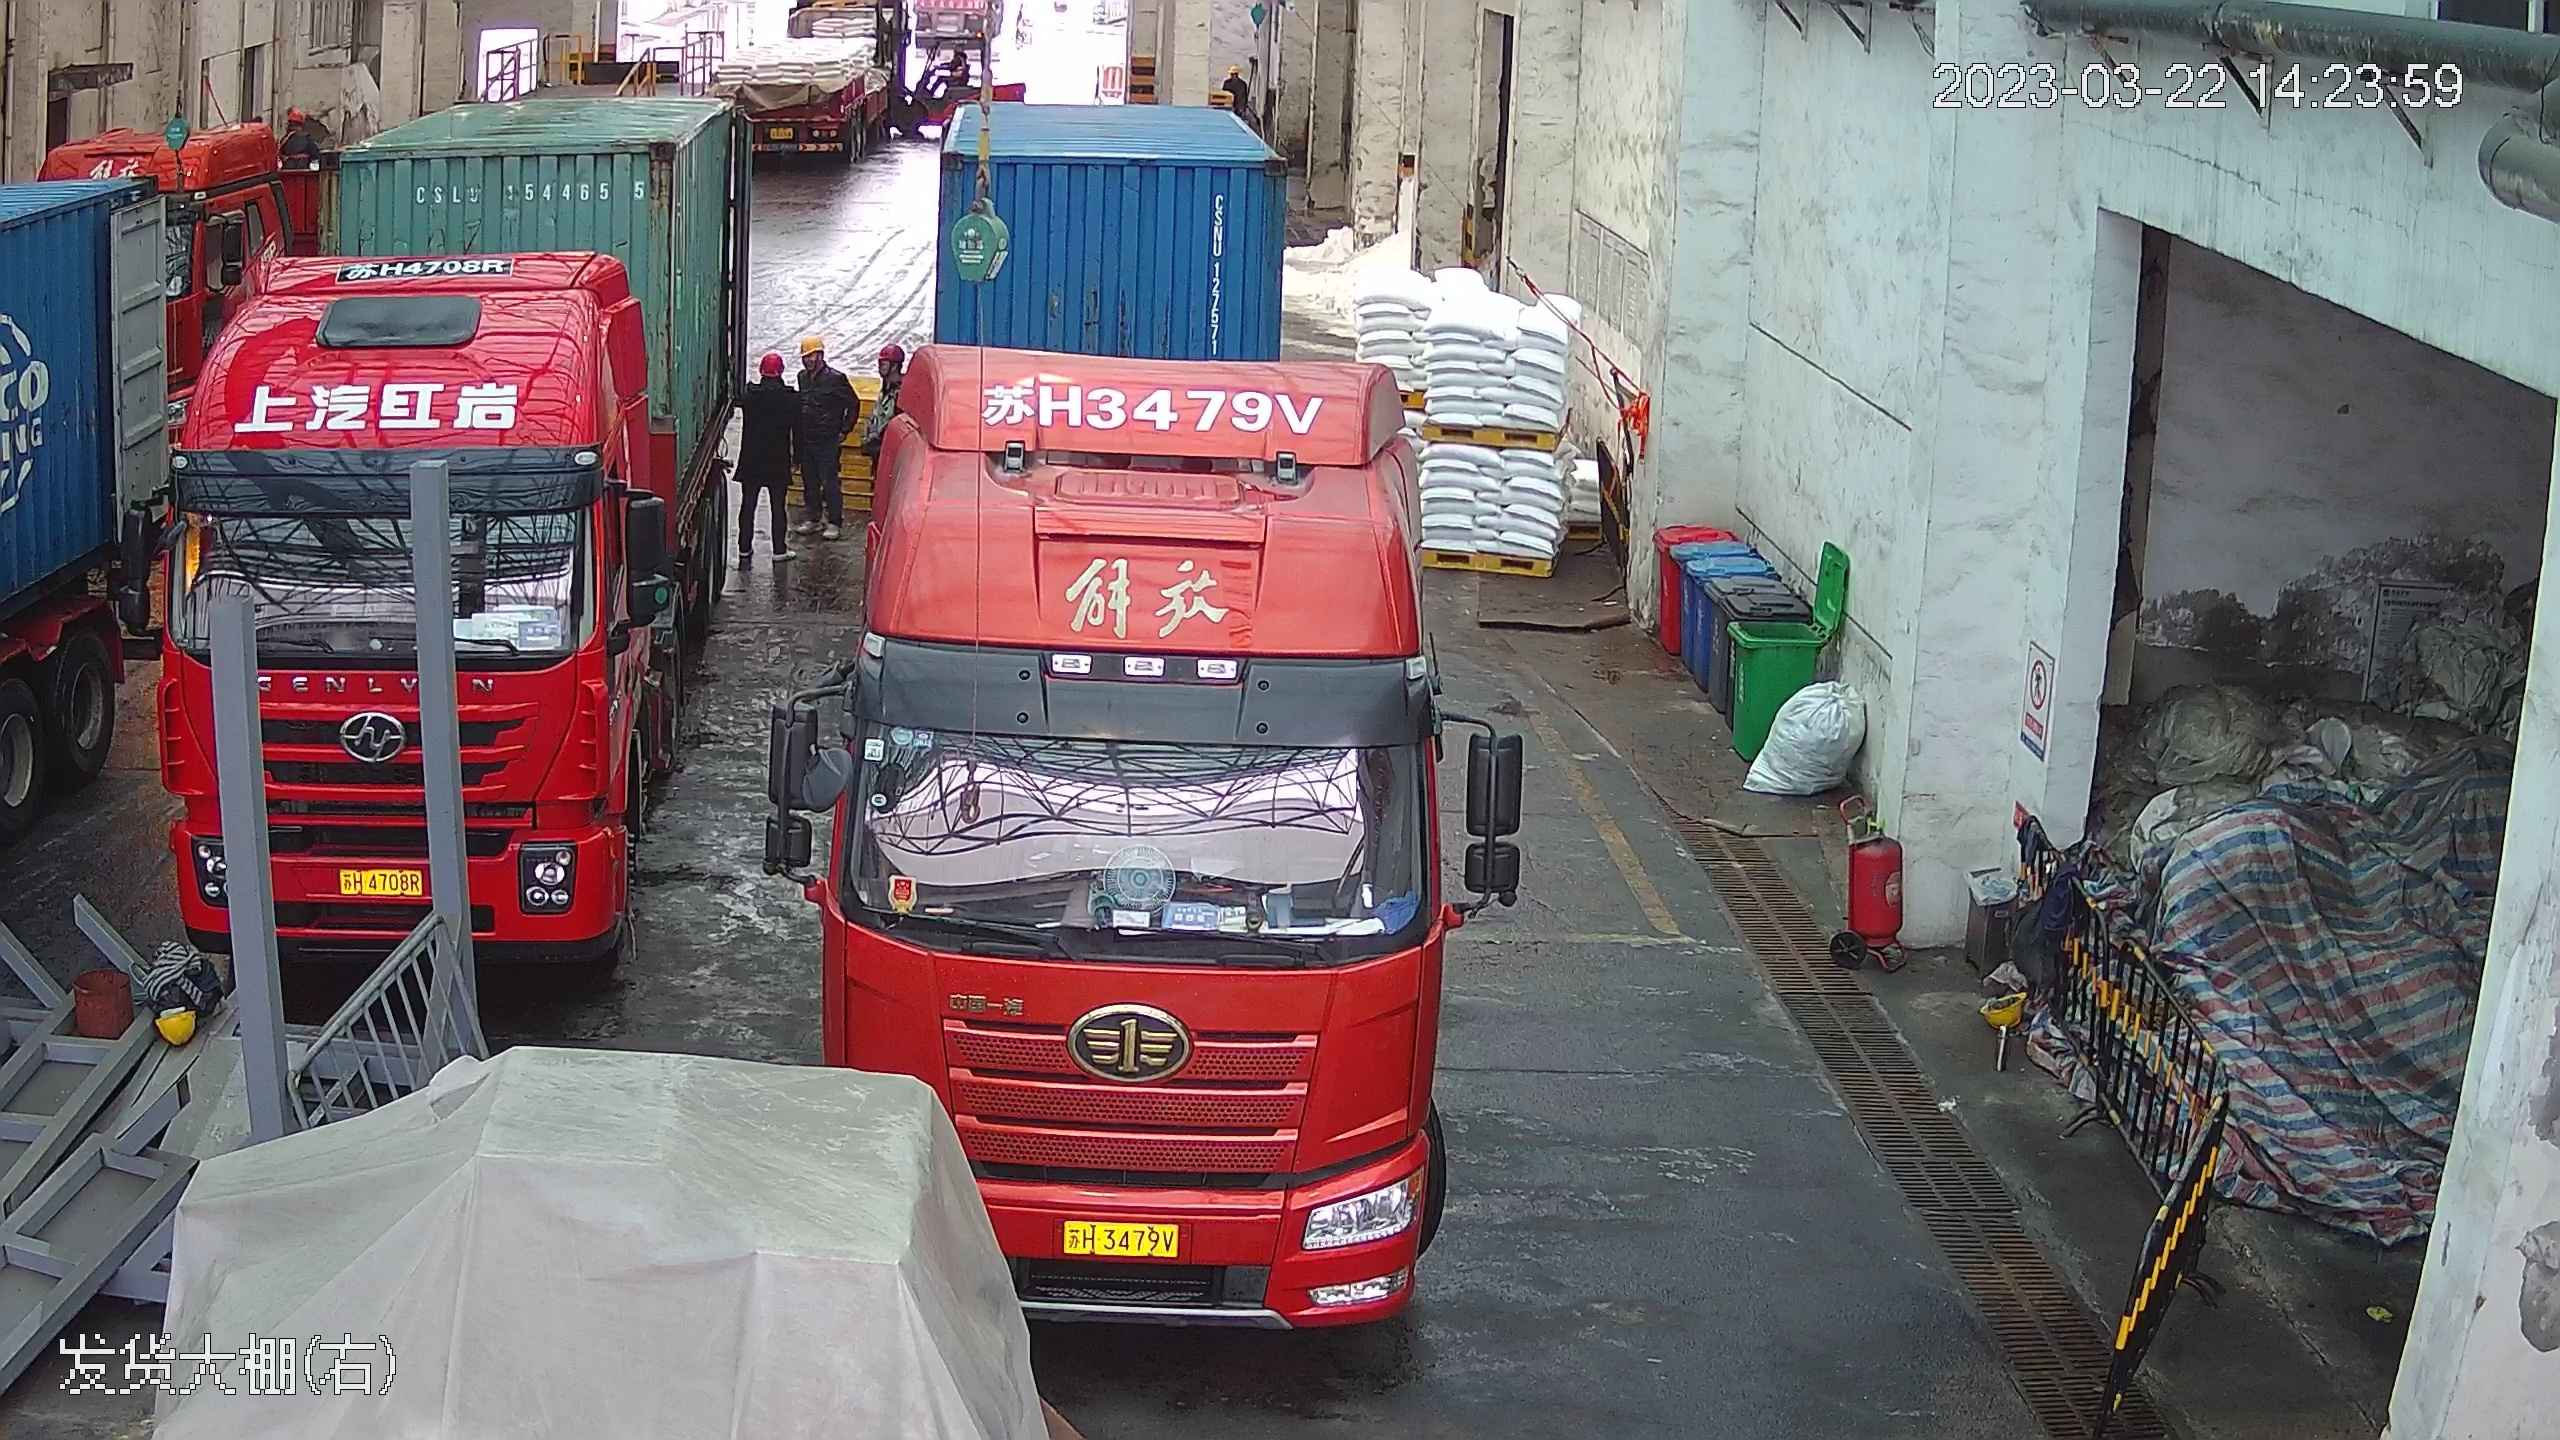belt: (275, 127, 309, 161)
head: (795, 332, 851, 390), (742, 351, 796, 412), (279, 105, 318, 159)
helmet: (752, 351, 784, 375), (875, 341, 907, 362), (799, 330, 825, 349), (282, 103, 307, 122)
people: (730, 348, 800, 590), (789, 332, 859, 534)
truck: (826, 54, 1471, 1320), (152, 43, 757, 977), (1, 107, 172, 986), (712, 2, 911, 174)
